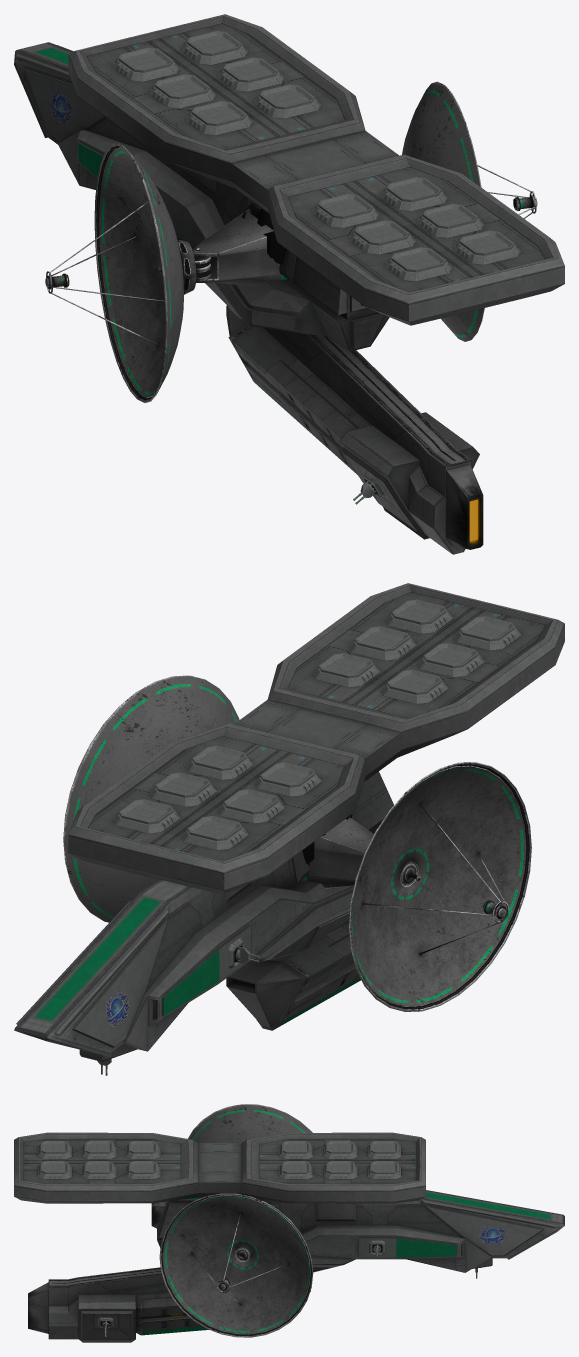
File: drone_carrier.glb
3 renders of one model, top to bottom at view 1: azimuth 30°, elevation 25°; view 2: azimuth 150°, elevation 25°; view 3: azimuth 270°, elevation 25°, orthographic. The views are drawn at different scales.
Parts seen in each view (by area): view 1: landpad, B_engine, L_dish, body, R_dish, L_dish-destroyed; view 2: landpad, L_dish, body, R_dish, B_engine; view 3: landpad, R_dish, body, B_engine, L_dish.
Boxes of the visible parts, x1=… form: landpad: x1=68, y1=14, x2=564, y2=325; B_engine: x1=226, y1=305, x2=483, y2=554; L_dish: x1=45, y1=143, x2=287, y2=403; body: x1=14, y1=42, x2=389, y2=351; R_dish: x1=402, y1=81, x2=537, y2=341; L_dish-destroyed: x1=241, y1=203, x2=285, y2=264; landpad: x1=68, y1=583, x2=564, y2=894; L_dish: x1=301, y1=762, x2=531, y2=1011; body: x1=14, y1=771, x2=393, y2=1061; R_dish: x1=63, y1=675, x2=239, y2=922; B_engine: x1=226, y1=919, x2=360, y2=1030; landpad: x1=14, y1=1132, x2=425, y2=1203; R_dish: x1=159, y1=1193, x2=313, y2=1337; body: x1=157, y1=1190, x2=564, y2=1272; B_engine: x1=28, y1=1267, x2=310, y2=1342; L_dish: x1=187, y1=1104, x2=312, y2=1142.
Bounding box in the file's own units: 28.83 × 19.28 × 50.35.
Materials: 6 (3 with a texture image).
